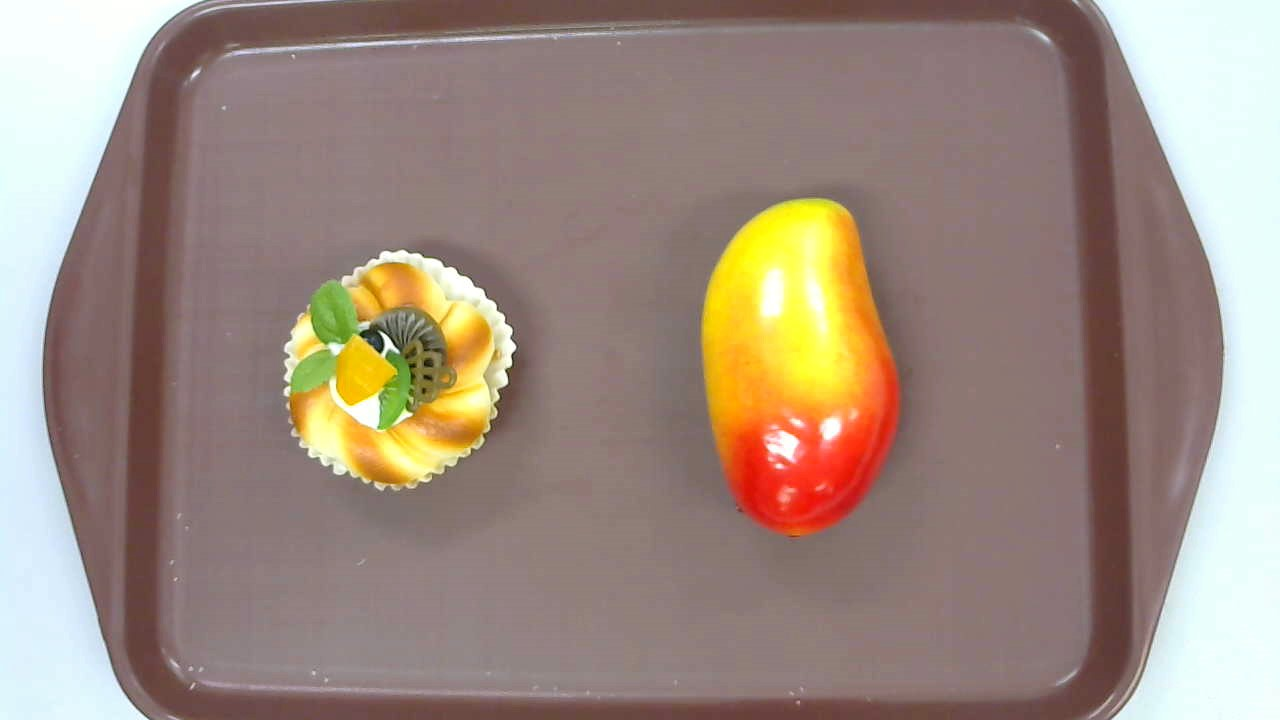fruit tart: (282, 248, 518, 493)
red mango: (699, 197, 901, 539)
